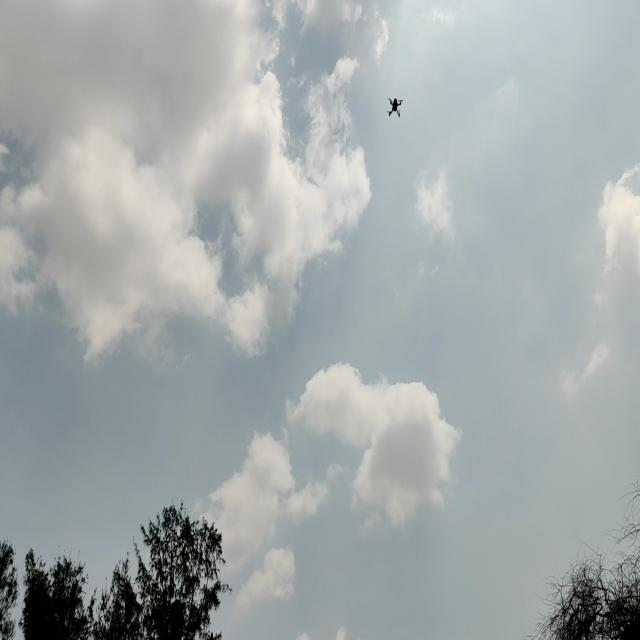drone: (382, 87, 405, 124)
